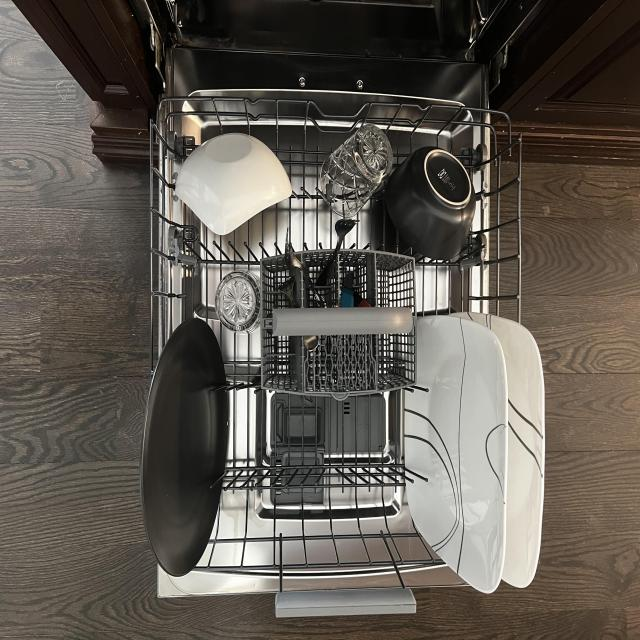Bowl: (172, 129, 294, 236), (389, 144, 476, 264)
Fork: (284, 226, 328, 308), (317, 217, 361, 287), (280, 271, 297, 307)
Glass: (316, 125, 398, 219), (214, 264, 260, 339)
Knife: (341, 268, 354, 308)
Plate: (401, 311, 510, 599), (139, 314, 233, 572)
